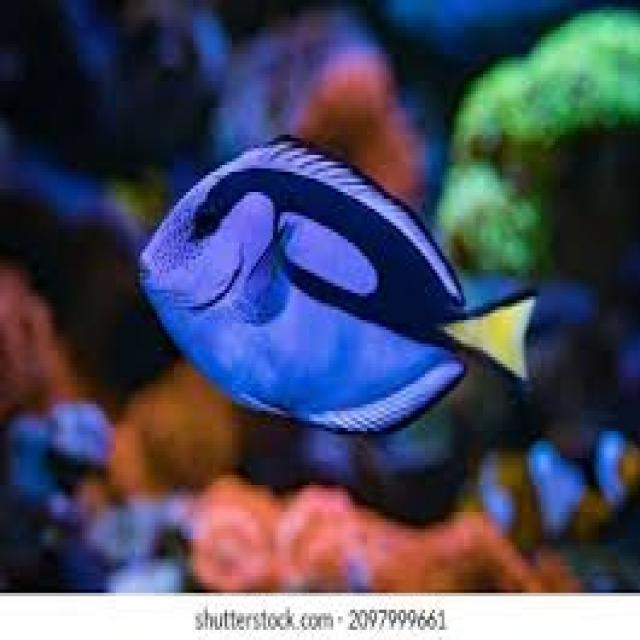BlueTang: (140, 138, 535, 433)
